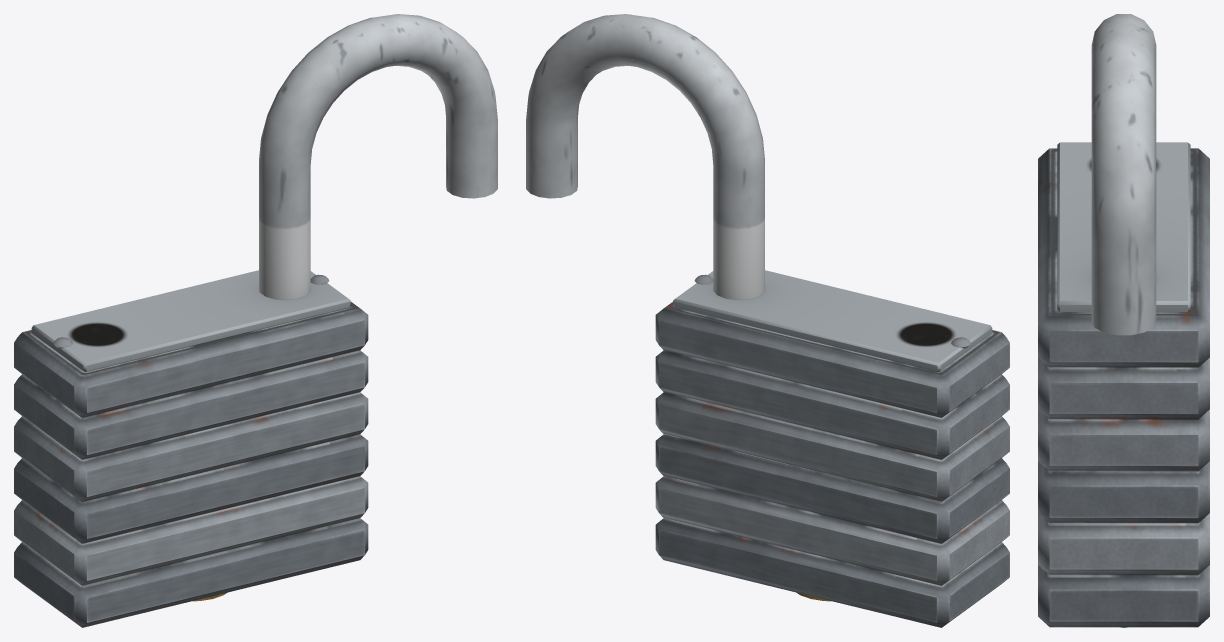
The model's file is Padlock.fbx.
The picture shows the model from 3 angles, left to right: view 1: azimuth 30°, elevation 25°; view 2: azimuth 150°, elevation 25°; view 3: azimuth 270°, elevation 25°; orthographic projection. The views are drawn at different scales.
Visible parts, largest first — view 1: Padlock; view 2: Padlock; view 3: Padlock.
Boxes of the visible parts, box(x1,y1,x2,y2) form: Padlock: box(14, 14, 497, 627); Padlock: box(526, 14, 1009, 627); Padlock: box(1038, 14, 1209, 627).
Bounding box in the file's own units: 0.6731 × 0.7411 × 0.18.
Materials: 1 (1 with a texture image).
